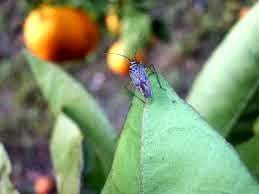Helopeltis-insect: (125, 57, 158, 102)
